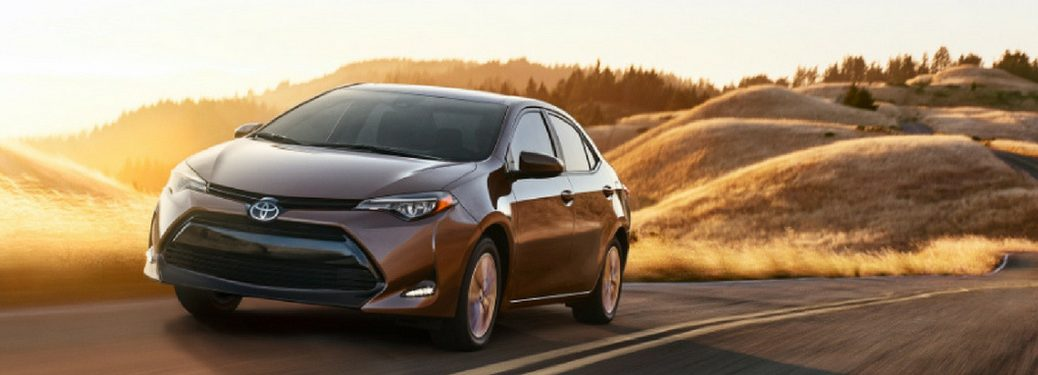Toyota Prius: (143, 83, 631, 351)
